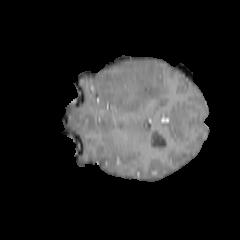glioma: (93, 59, 169, 115)
